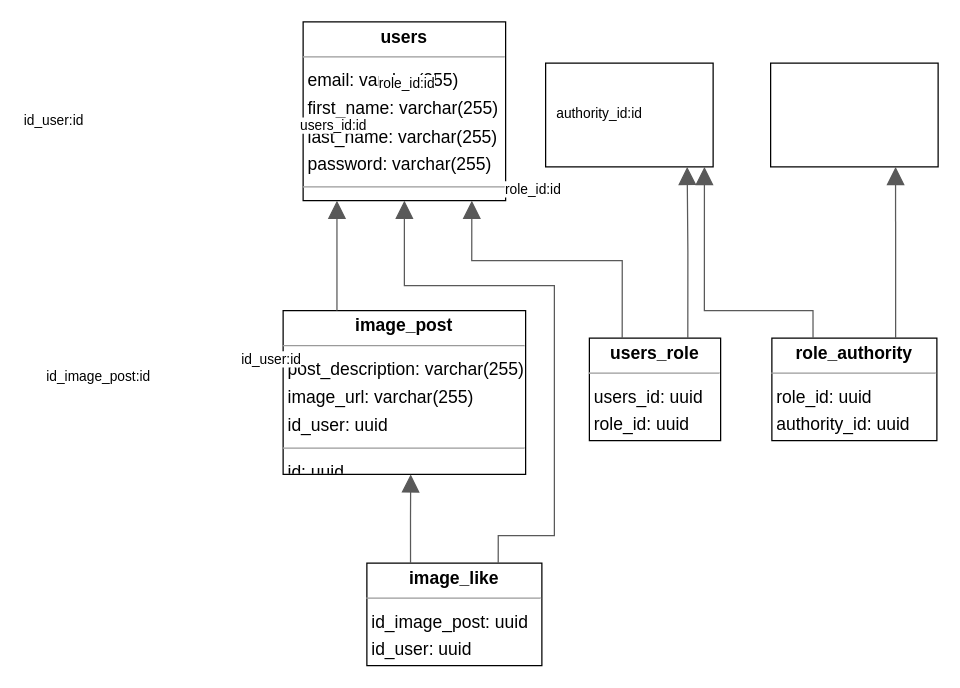
This 960x688 diagram has some shape labels left out. The box of each missing label's shape, as (x1, y1, x2, y2) in pixels:
authority name: varchar(255) id: uuid: (769, 62, 938, 167)
role name: varchar(255) id: uuid: (544, 62, 713, 167)
